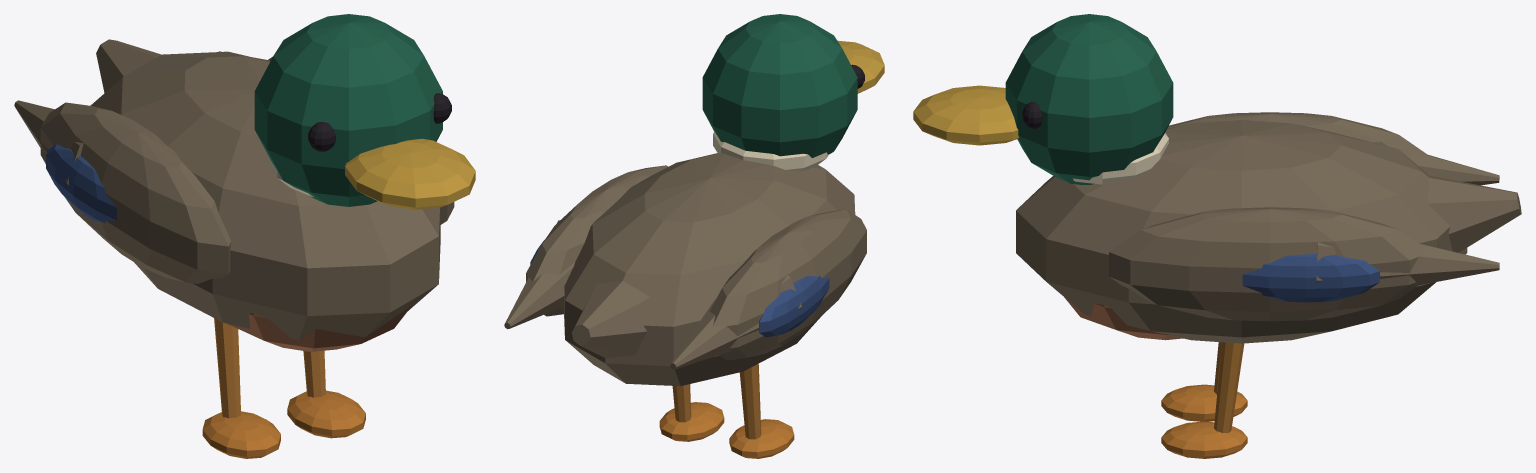
Rendered from mallard.fbx.
3 renders of one model, left to right at view 1: azimuth 30°, elevation 25°; view 2: azimuth 150°, elevation 25°; view 3: azimuth 270°, elevation 25°, orthographic. The views are drawn at different scales.
Parts seen in each view (by area): view 1: Body, WingLeft; view 2: Body, WingLeft, WingRight; view 3: Body, WingRight, WingLeft.
Boxes of the visible parts, x1=… form: Body: x1=90, y1=14, x2=475, y2=458; WingLeft: x1=14, y1=100, x2=231, y2=283; Body: x1=564, y1=14, x2=884, y2=458; WingLeft: x1=670, y1=209, x2=866, y2=369; WingRight: x1=504, y1=165, x2=667, y2=329; Body: x1=913, y1=14, x2=1521, y2=458; WingRight: x1=1109, y1=207, x2=1499, y2=321; WingLeft: x1=1167, y1=112, x2=1499, y2=185.
Size of the model in its own units: 47.98 by 68.8 by 92.
